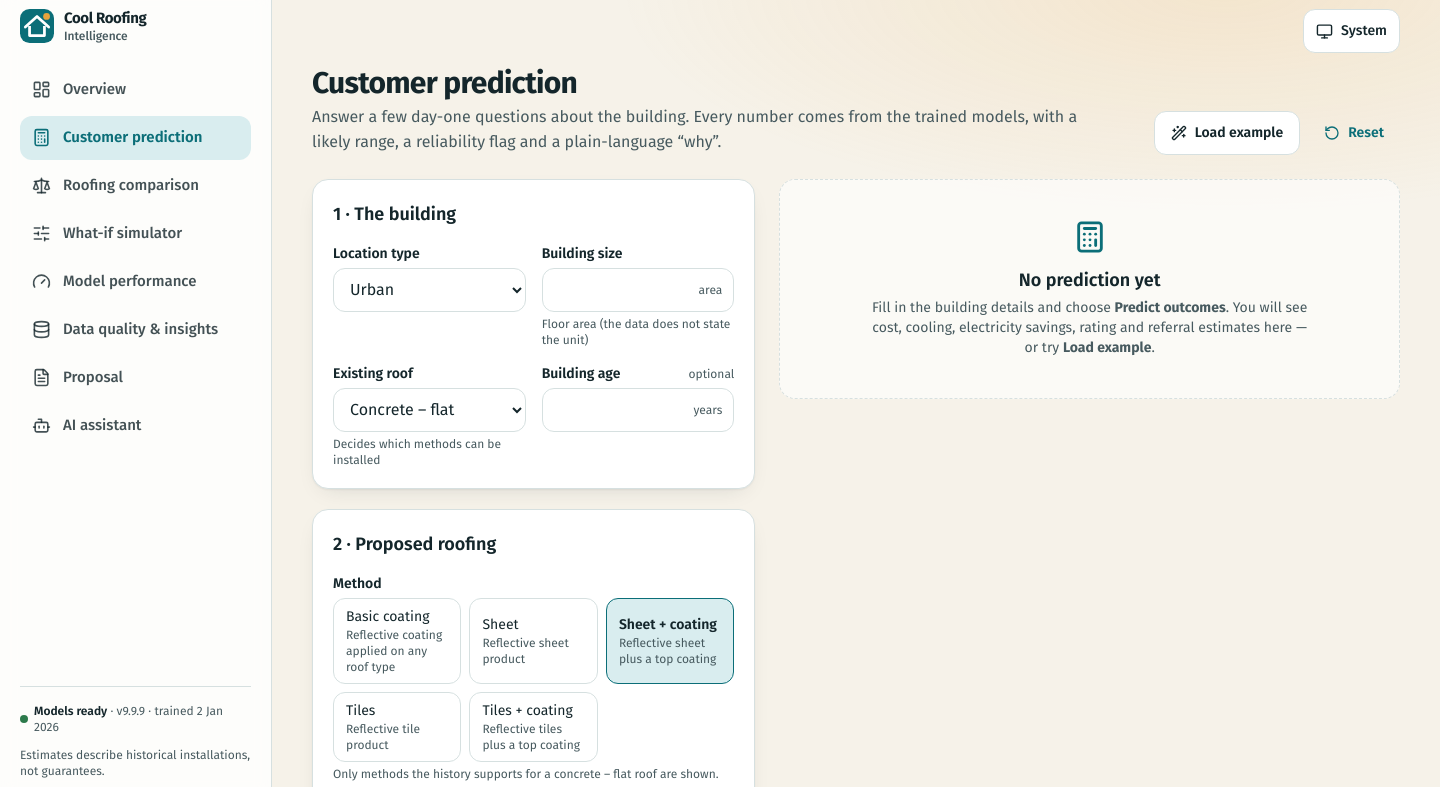
Scenario: customer prediction › submits and renders every result with ranges, reliability and probabilities
Click the button "Load example".
click(1227, 133)  # box [1154,111,1300,155]
(page scrolled)
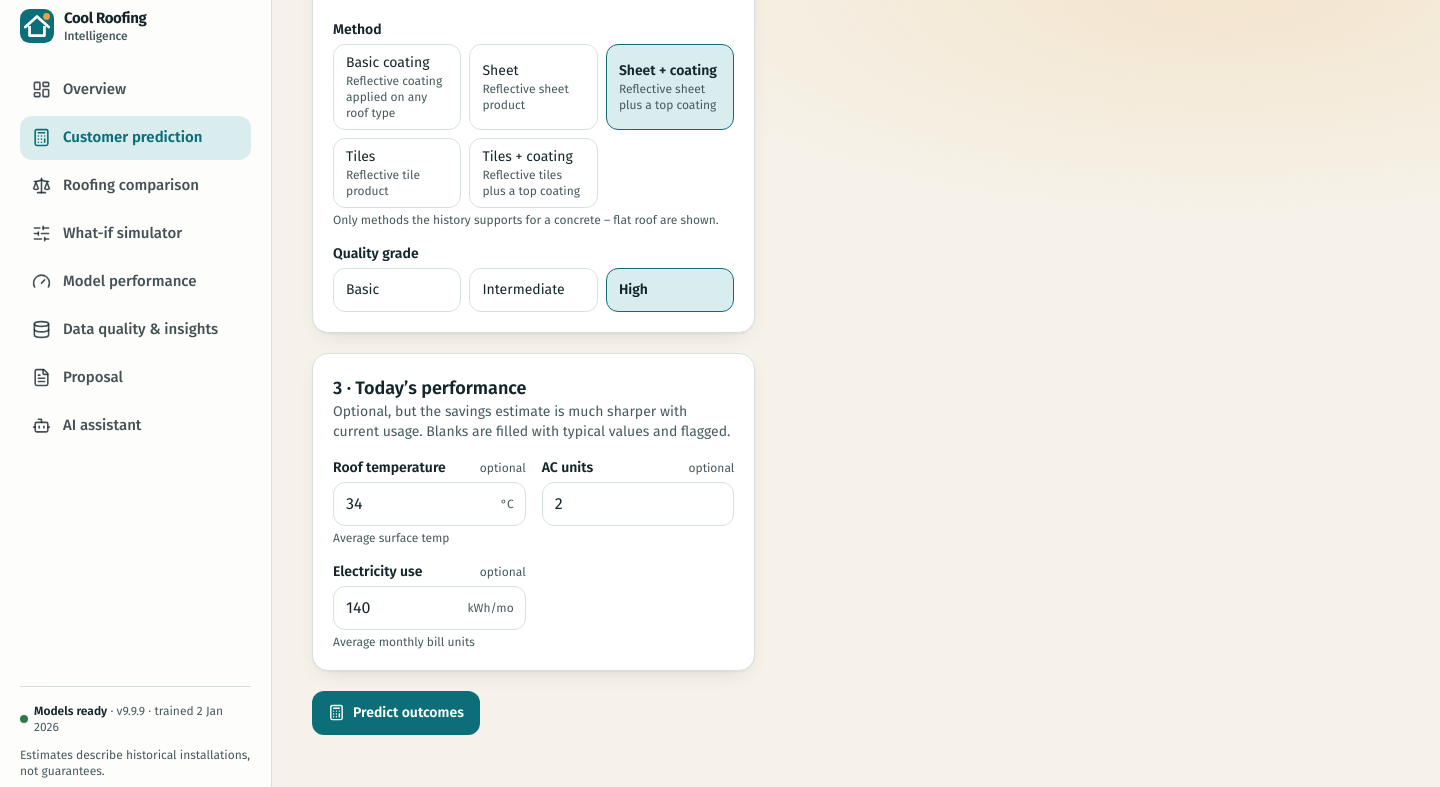
Click the button "Predict outcomes".
click(396, 713)  # box [312,691,480,735]
(page scrolled)
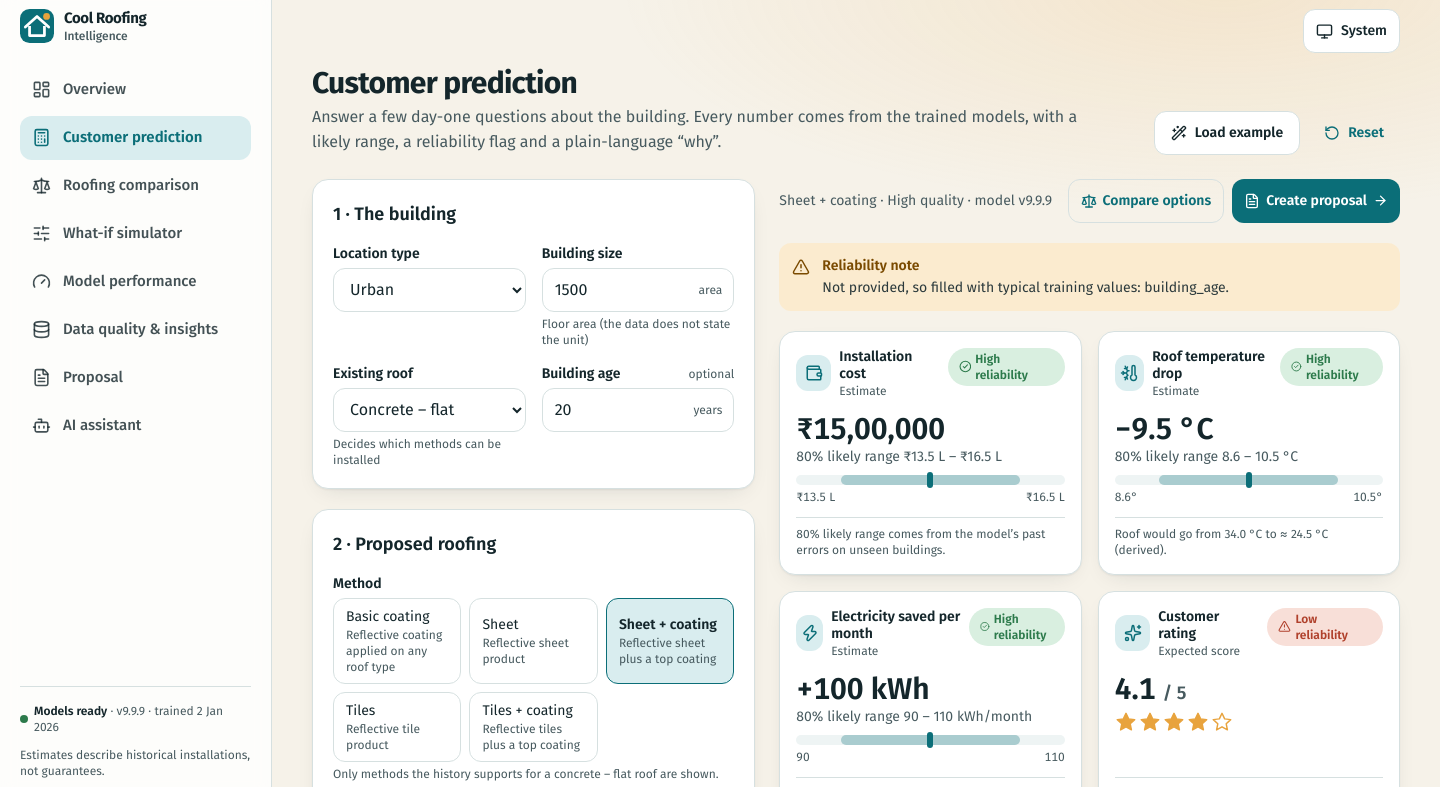
Result: the text with test id "cost-value" reads "₹15,00,000" at [796,411,945,447]
Result: the text with test id "temp-value" shows "9.5" at [1132,411,1172,447]
Result: the text with test id "units-value" shows "100" at [796,671,864,707]
